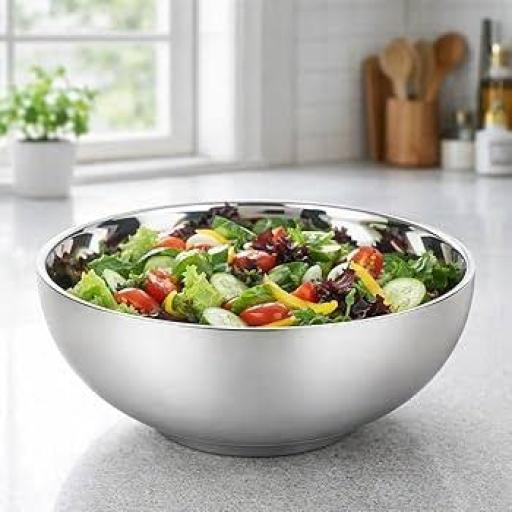Bowl: (37, 199, 474, 455)
